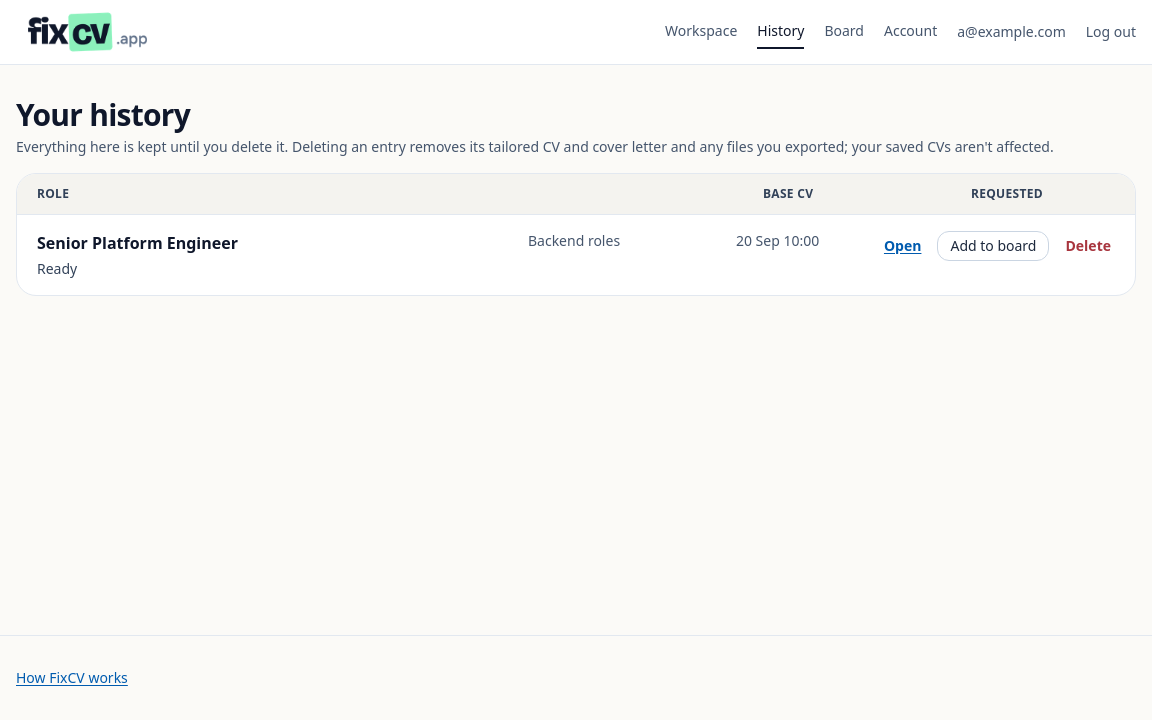
Test: HistoryPage — deleting an entry (AC-45) › asks first, in a dialog that says what goes; Escape cancels and returns focus to Delete
Expected: the text "Senior Platform Engineer" is shown, left=37, top=231, right=238, bottom=255
Click the button "Delete": x=1088, y=246 left=1062, top=236, right=1115, bottom=256
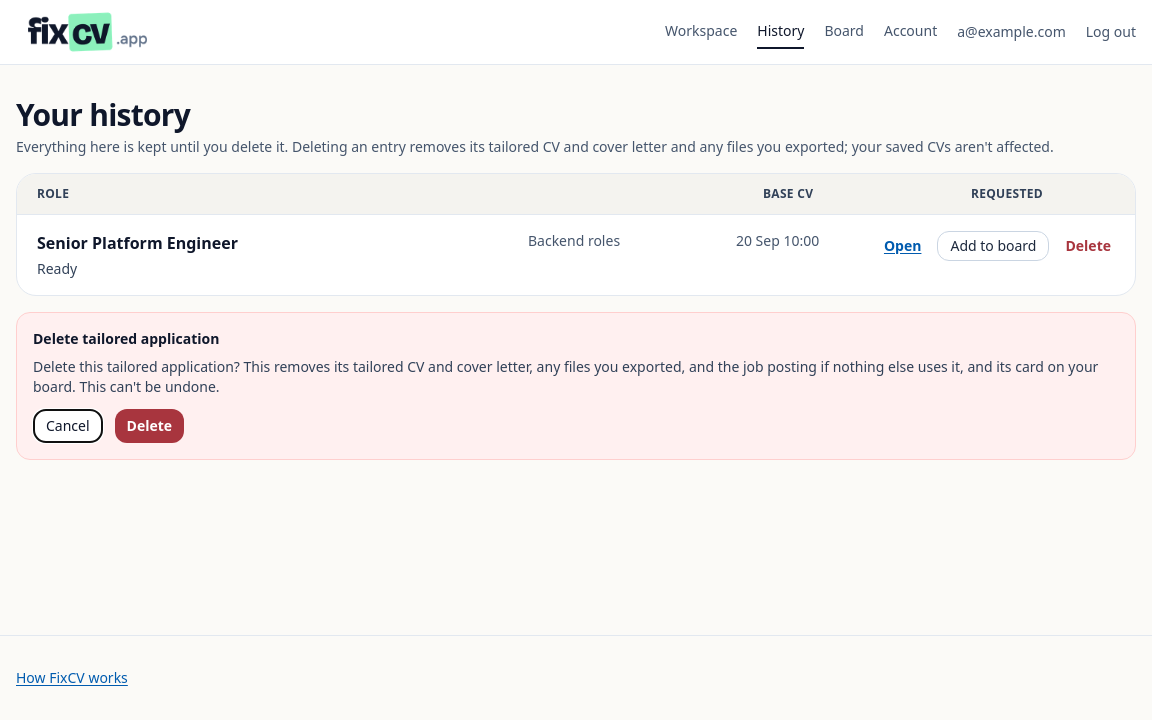
Expected: the dialog shows "Delete this tailored application? This removes its tailored CV and cover letter, any files you exported, and the job posting if nothing else uses it, and its ca", left=33, top=357, right=1098, bottom=396
Press Escape
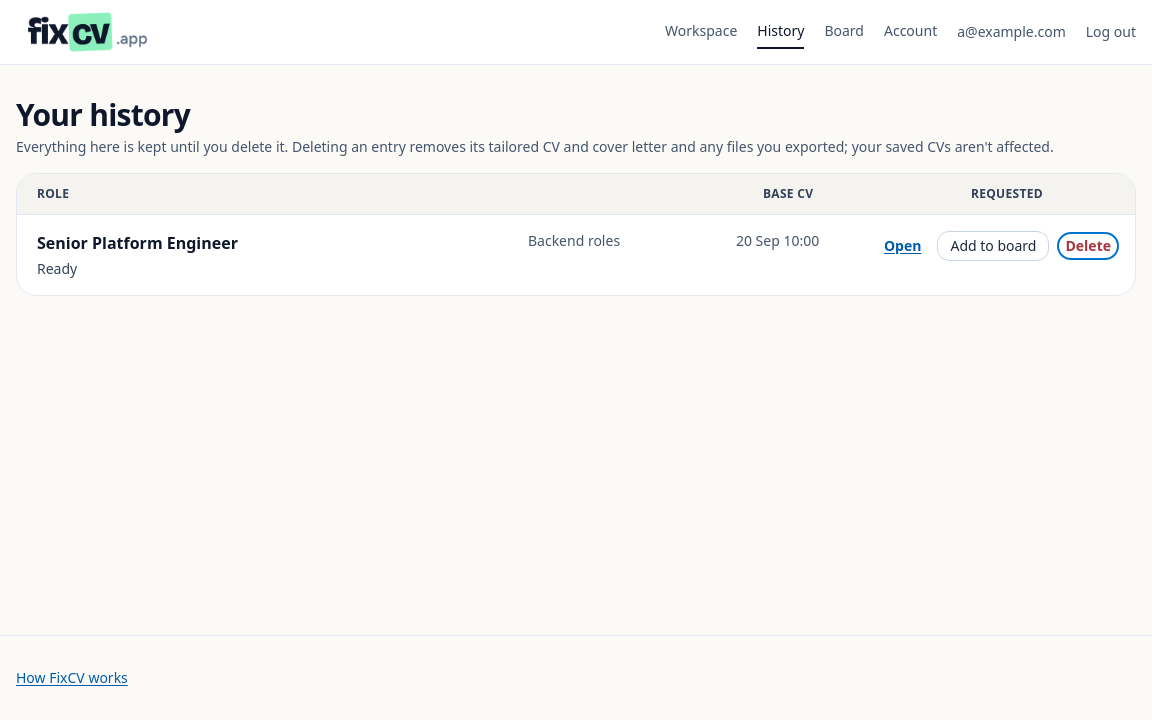
Expected: the dialog is gone
